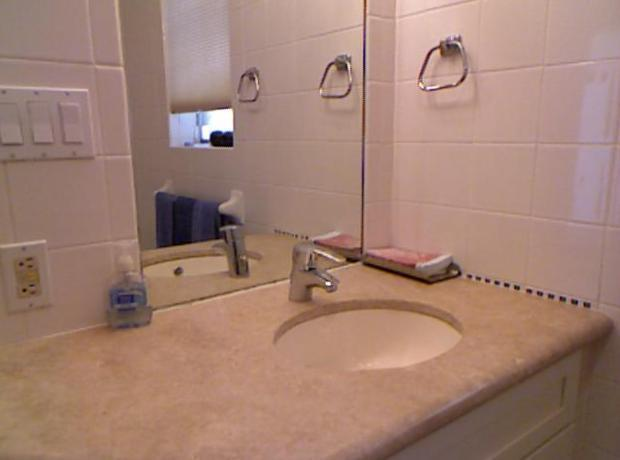Lavamanos: (266, 228, 468, 402)
